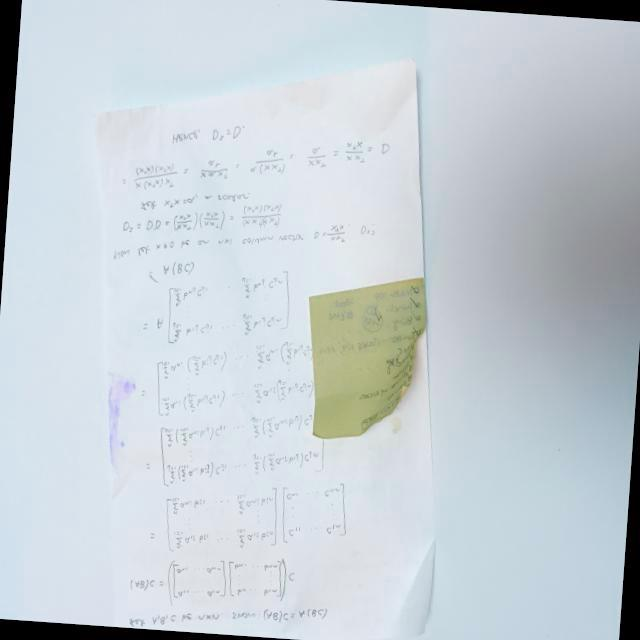paper: (57, 33, 472, 640)
